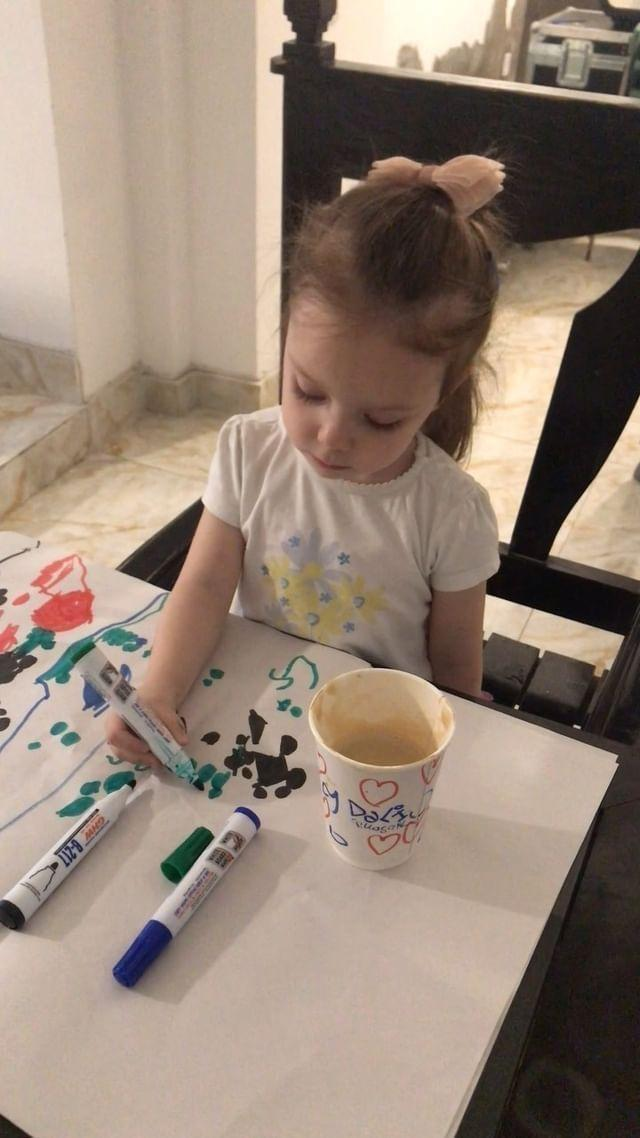cup-disposable: (308, 663, 462, 875)
